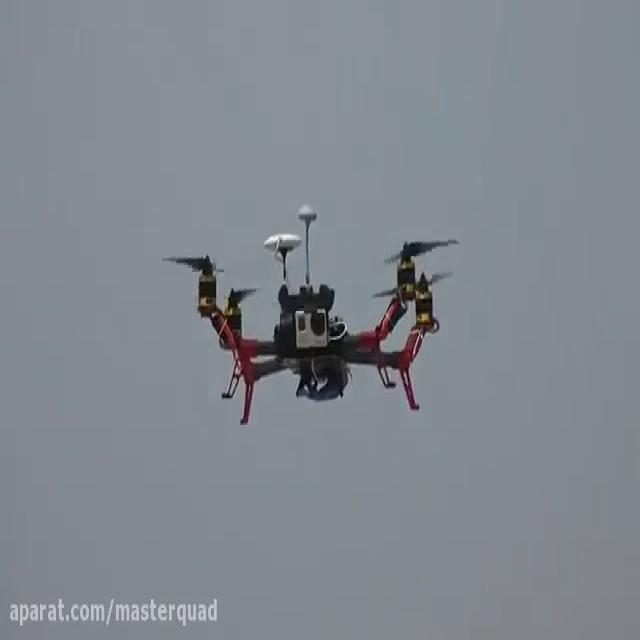drone: (156, 199, 463, 430)
